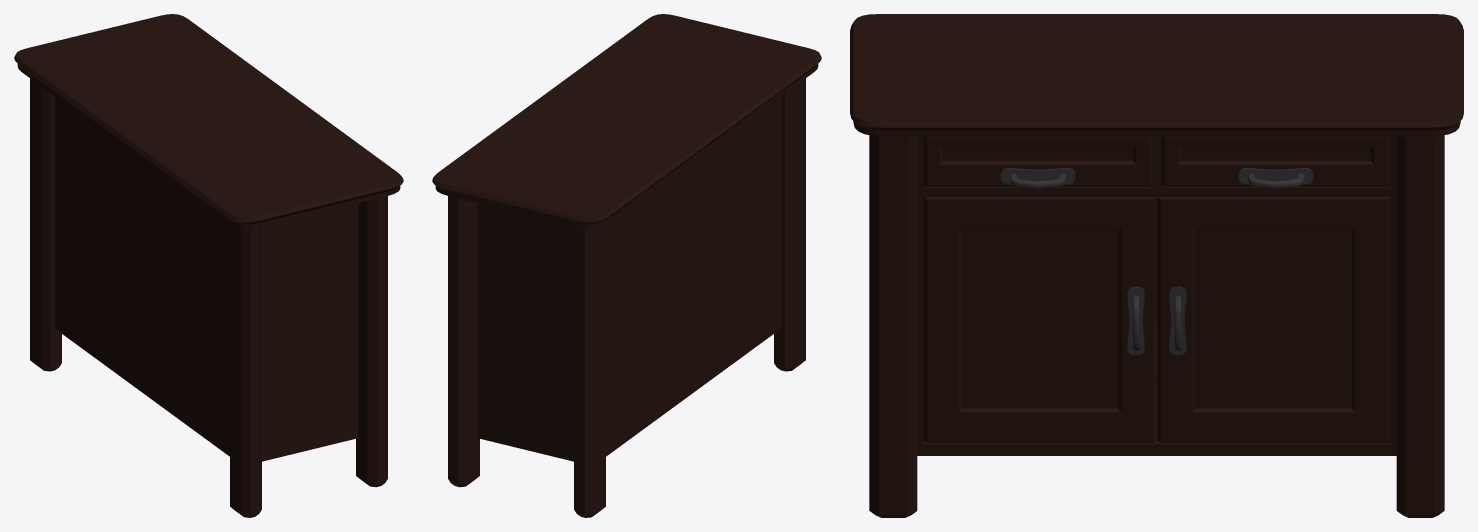
File: h-004_storageCloset_02_F.FBX
3 renders of one model, left to right at view 1: azimuth 30°, elevation 25°; view 2: azimuth 150°, elevation 25°; view 3: azimuth 270°, elevation 25°, orthographic. The views are drawn at different scales.
Parts seen in each view (by area): view 1: h-004_storageCloset_02; view 2: h-004_storageCloset_02; view 3: h-004_storageCloset_02, h-004_storageCloset_02_door_L, h-004_storageCloset_02_door_R, h-004_storageCloset_02_drawer_R, h-004_storageCloset_02_drawer_L.
Boxes of the visible parts, x1,y1,x2,y2 form: h-004_storageCloset_02: [14, 14, 403, 517]; h-004_storageCloset_02: [432, 14, 821, 517]; h-004_storageCloset_02: [850, 14, 1463, 517]; h-004_storageCloset_02_door_L: [923, 197, 1156, 442]; h-004_storageCloset_02_door_R: [1157, 197, 1390, 442]; h-004_storageCloset_02_drawer_R: [1161, 136, 1390, 188]; h-004_storageCloset_02_drawer_L: [923, 136, 1152, 188].
Size of the model in its own units: 8.21 by 14 by 19.21.
